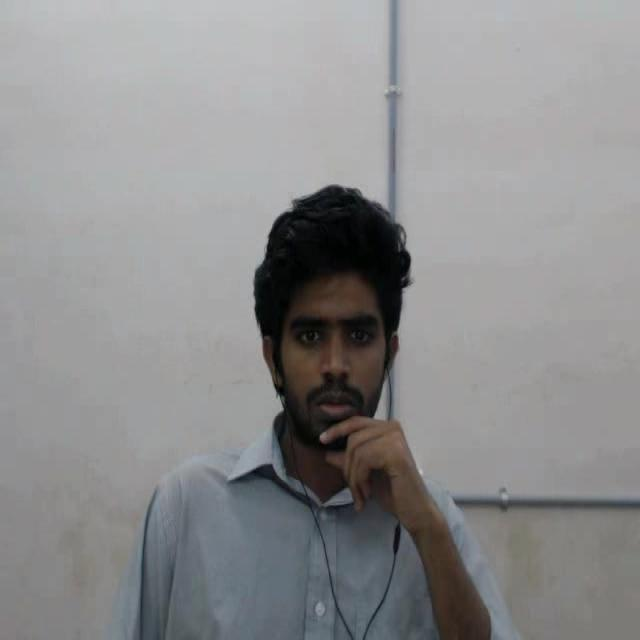Bored: (234, 166, 446, 483)
